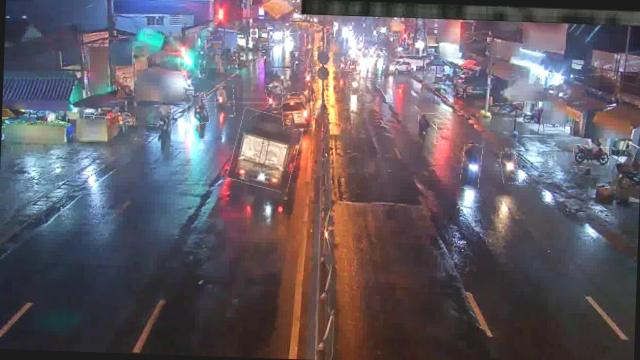Bike: (459, 144, 482, 190), (572, 145, 610, 168), (186, 93, 210, 126), (214, 84, 234, 116), (150, 106, 172, 135), (418, 113, 437, 146), (500, 151, 519, 184), (489, 103, 524, 120), (266, 84, 284, 108), (349, 72, 360, 94)
Car: (282, 92, 314, 130)
Truck: (230, 110, 302, 190)
